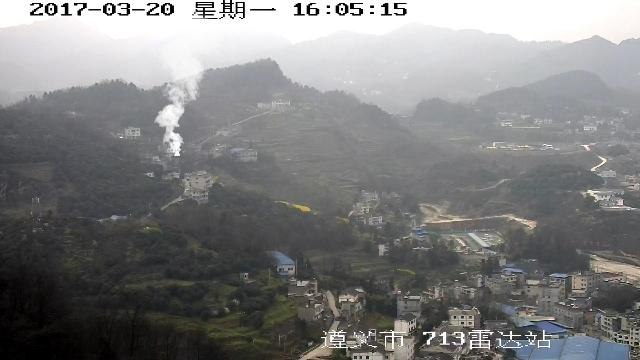smoke: (157, 16, 222, 157)
